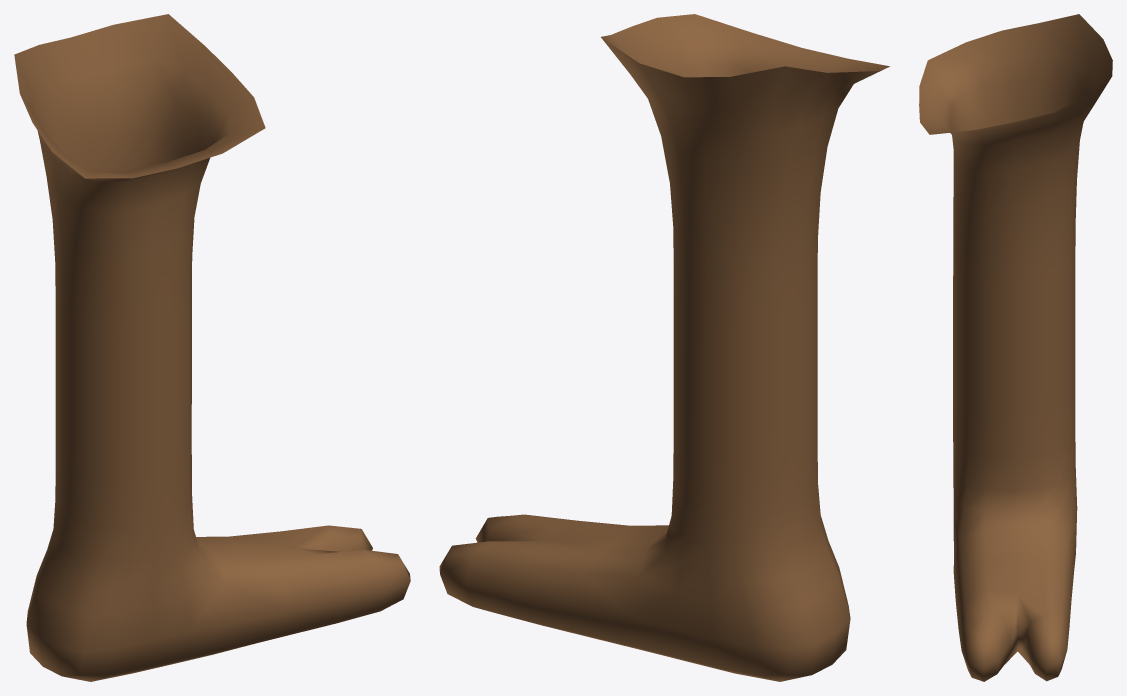
File: pieizquierdo.obj
3 renders of one model, left to right at view 1: azimuth 30°, elevation 25°; view 2: azimuth 150°, elevation 25°; view 3: azimuth 270°, elevation 25°, orthographic. The views are drawn at different scales.
Parts seen in each view (by area): view 1: Cube.003_R'gby_=_Base; view 2: Cube.003_R'gby_=_Base; view 3: Cube.003_R'gby_=_Base.
Boxes of the visible parts, x1,y1,x2,y2 form: Cube.003_R'gby_=_Base: [14, 14, 410, 681]; Cube.003_R'gby_=_Base: [439, 14, 889, 681]; Cube.003_R'gby_=_Base: [919, 14, 1112, 681].
Bounding box in the file's own units: 0.1608 × 0.25 × 0.0819.
